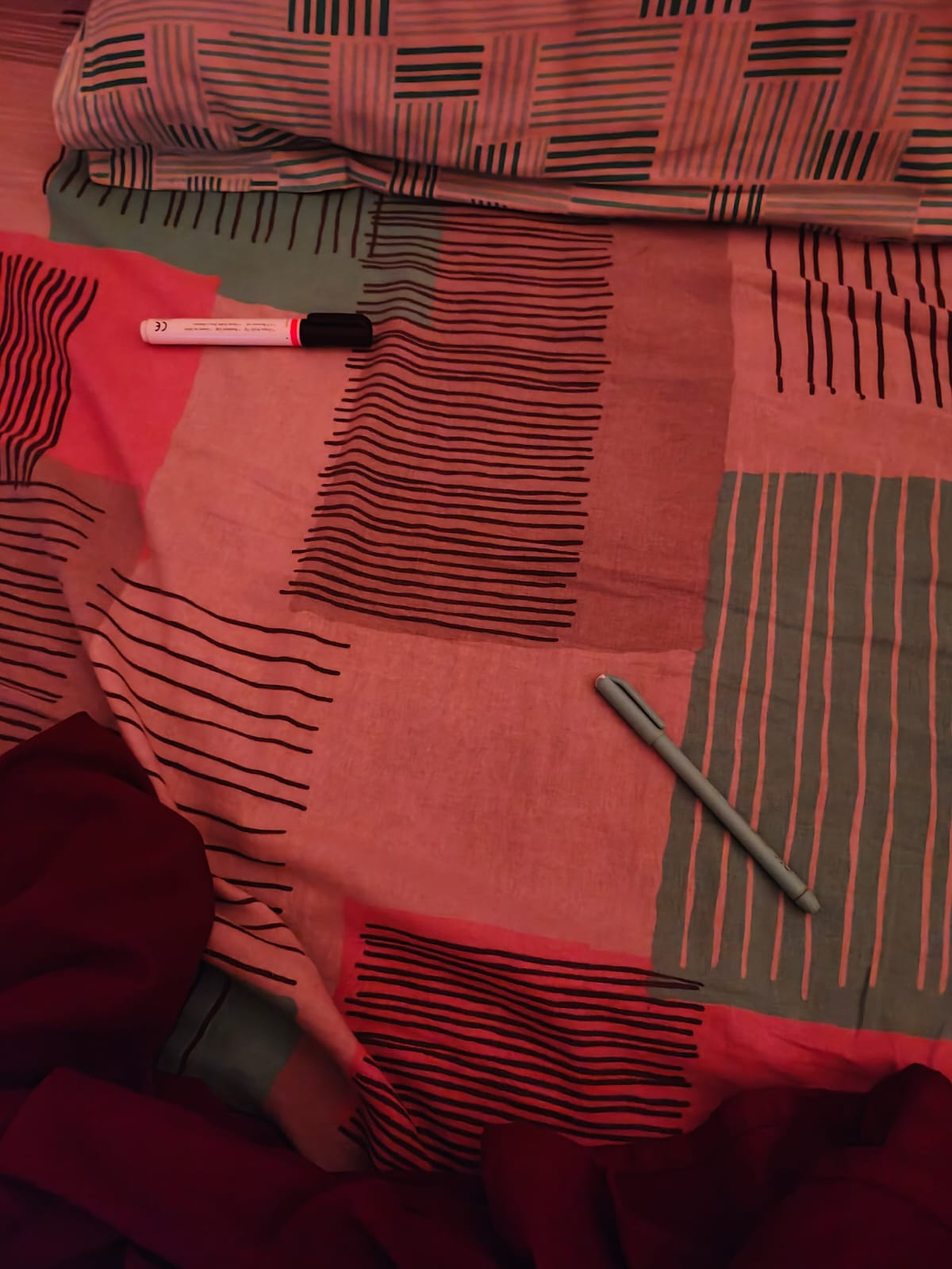case: (121, 310, 383, 358)
pen: (587, 659, 830, 920)
